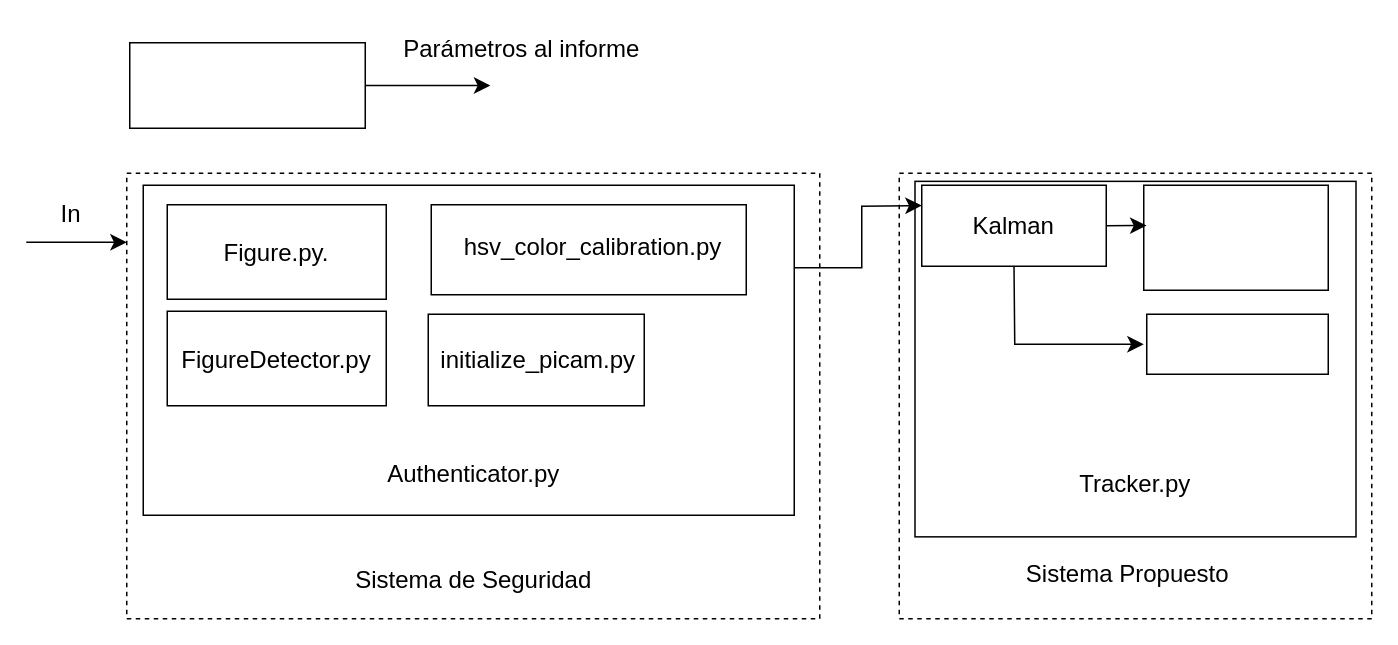
Some shapes in this 1398 by 645 pixel diagram are drawn without their labels. The shapes that lost their labels are listed below. From the top down, each one's centre as x and y in pixels, then its label:
the point at 246,84: Calibracion
the point at 1235,237: Segmentacion mascaras color
the point at 1236,343: Salida Video
